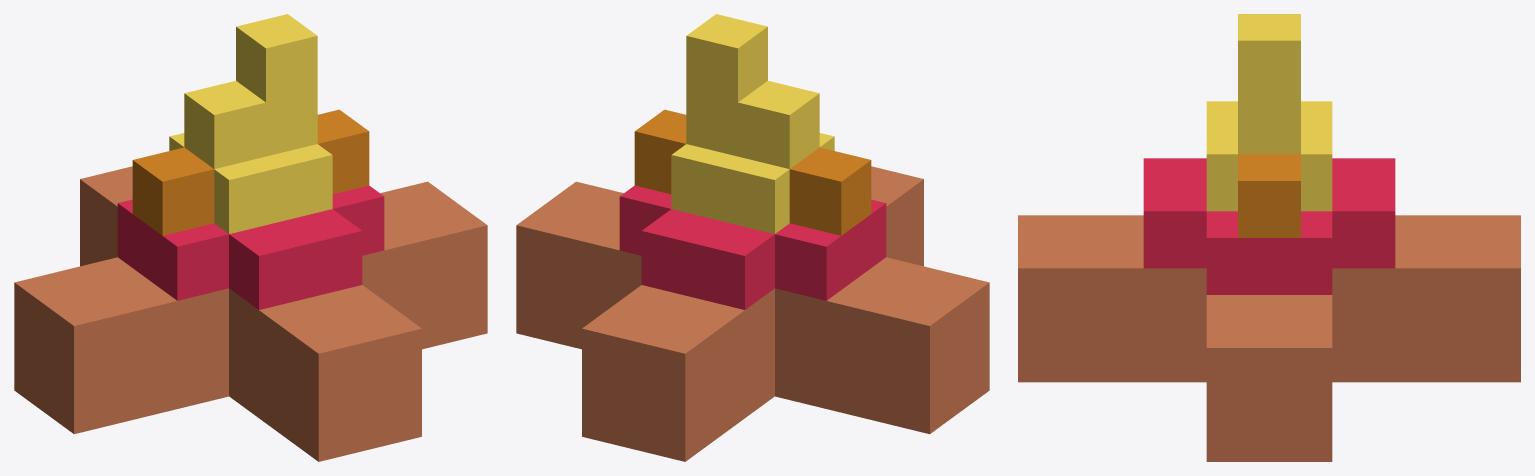
Rendered from campfire.glb.
The picture shows the model from 3 angles, left to right: view 1: azimuth 30°, elevation 25°; view 2: azimuth 150°, elevation 25°; view 3: azimuth 270°, elevation 25°; orthographic projection. The views are drawn at different scales.
Parts seen in each view (by area): view 1: generated(Clone); view 2: generated(Clone); view 3: generated(Clone).
Part boxes in pixels (x1,y1,x2,y2): generated(Clone): (14,14,487,461); generated(Clone): (516,14,989,461); generated(Clone): (1018,14,1520,461).
Size of the model in its own units: 8 by 6 by 8.
Materials: 1 (1 with a texture image).
